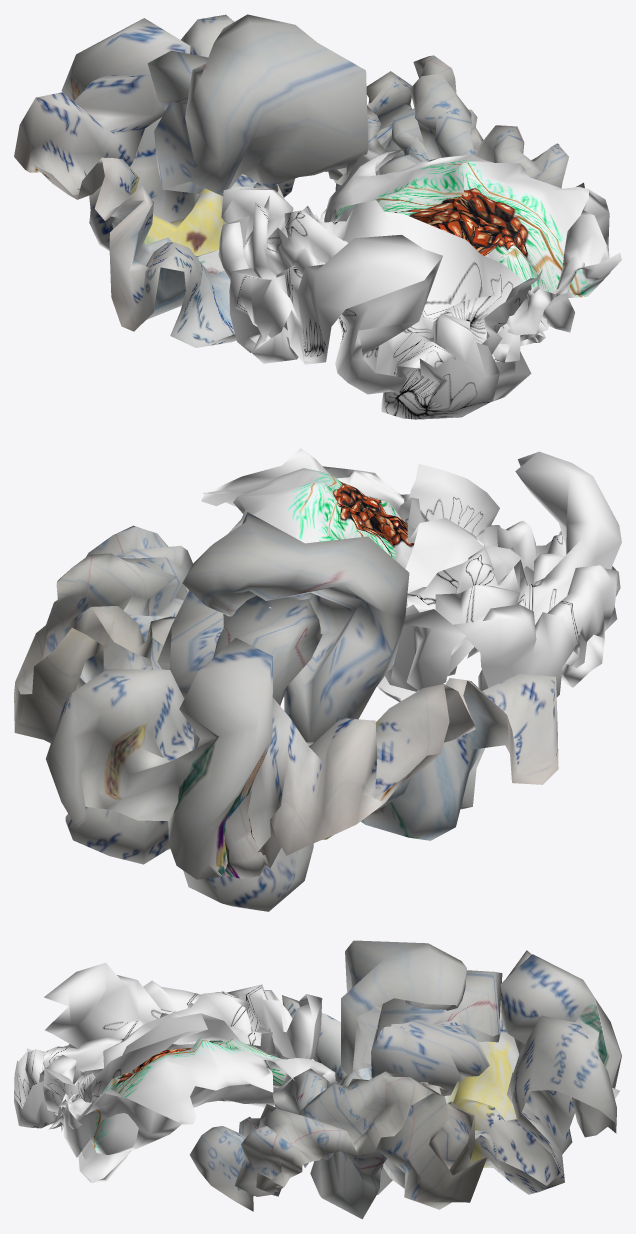
The model's file is PapierFroisse.fbx.
3 renders of one model, top to bottom at view 1: azimuth 30°, elevation 25°; view 2: azimuth 150°, elevation 25°; view 3: azimuth 270°, elevation 25°, orthographic. The views are drawn at different scales.
Parts seen in each view (by area): view 1: Crumpled Paper 040, Crumpled Paper 030, Crumpled Paper 010, Crumpled Paper 050, Crumpled Paper 020; view 2: Crumpled Paper 030, Crumpled Paper 040, Crumpled Paper 010, Crumpled Paper 020, Crumpled Paper 050; view 3: Crumpled Paper 020, Crumpled Paper 030, Crumpled Paper 040, Crumpled Paper 010, Crumpled Paper 050.
Part boxes in pixels (x1,y1,x2,y2): Crumpled Paper 040: (218,186,542,419); Crumpled Paper 030: (14,14,294,347); Crumpled Paper 010: (147,14,368,196); Crumpled Paper 050: (319,149,621,402); Crumpled Paper 020: (328,55,584,190); Crumpled Paper 030: (46,638,558,911); Crumpled Paper 040: (385,451,621,697); Crumpled Paper 010: (157,512,409,742); Crumpled Paper 020: (14,525,199,748); Crumpled Paper 050: (201,448,418,701); Crumpled Paper 020: (190,1068,487,1219); Crumpled Paper 030: (282,950,621,1194); Crumpled Paper 040: (14,962,322,1128); Crumpled Paper 010: (341,940,502,1096); Crumpled Paper 050: (48,1037,338,1182).
Bounding box in the file's own units: 19.95 × 12.2 × 28.52.
